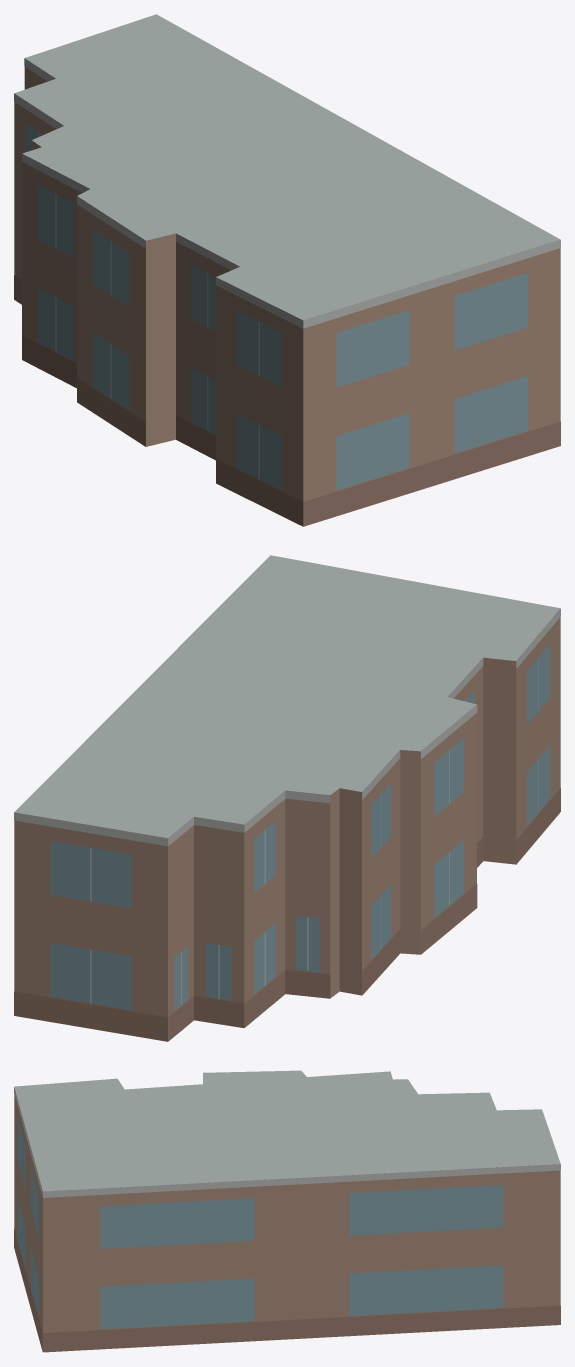
Rendered from survey-upis-32827031.glb.
3 renders of one model, top to bottom at view 1: azimuth 30°, elevation 25°; view 2: azimuth 150°, elevation 25°; view 3: azimuth 270°, elevation 25°, orthographic. The views are drawn at different scales.
Parts seen in each view (by area): view 1: survey-upis-32827031.tmp; view 2: survey-upis-32827031.tmp; view 3: survey-upis-32827031.tmp.
Boxes of the visible parts, x1=… form: survey-upis-32827031.tmp: x1=14, y1=14, x2=560, y2=526; survey-upis-32827031.tmp: x1=14, y1=555, x2=560, y2=1041; survey-upis-32827031.tmp: x1=14, y1=1070, x2=560, y2=1352.
Bounding box in the file's own units: 9.85 × 6.1 × 18.8.
